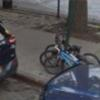bicycles: (43, 41, 100, 74)
cars: (0, 25, 18, 85)
